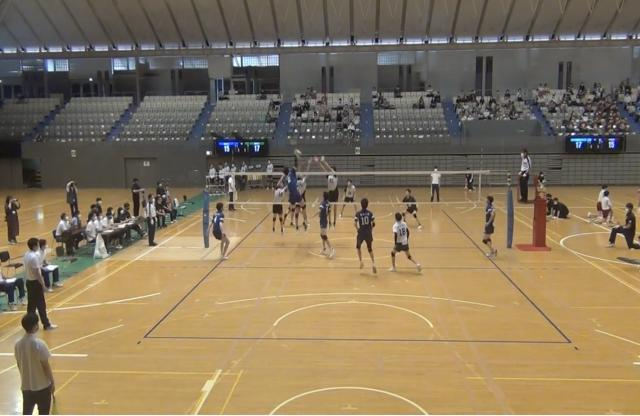spike: (279, 146, 314, 234)
